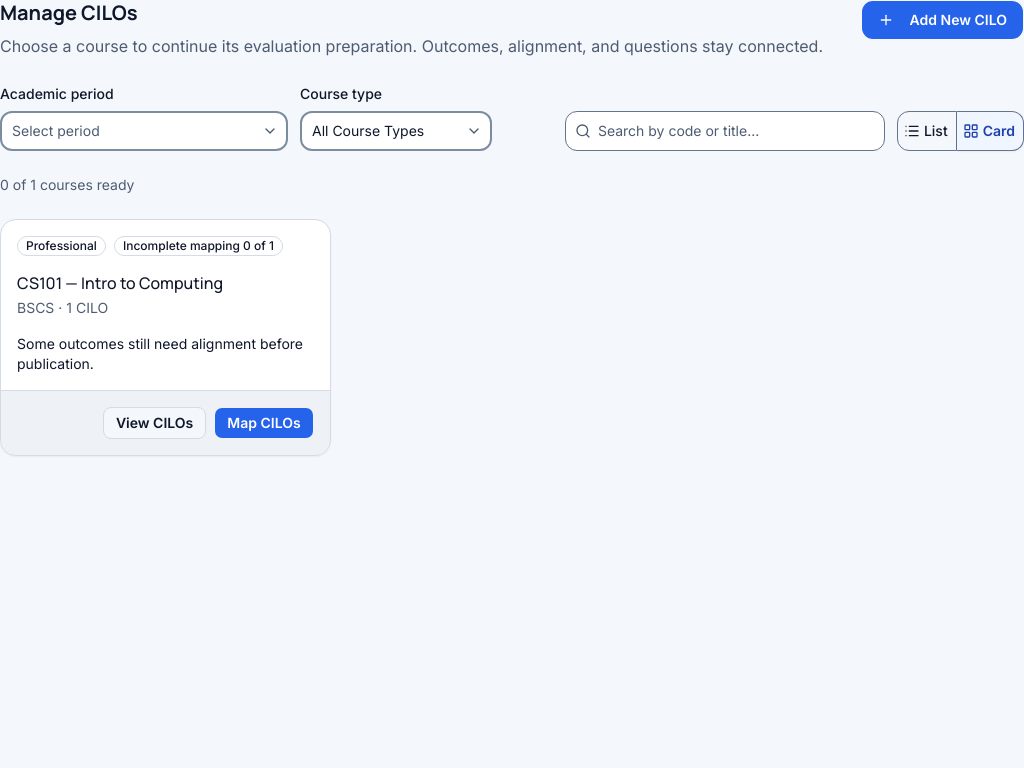
Test: FacultyCilosCourseList › warns when the save succeeds but the list cannot be refreshed
The image size is (1024, 768).
Click the button with aria-label "View CILOs for CS101": (155, 423) [103,407,206,439]
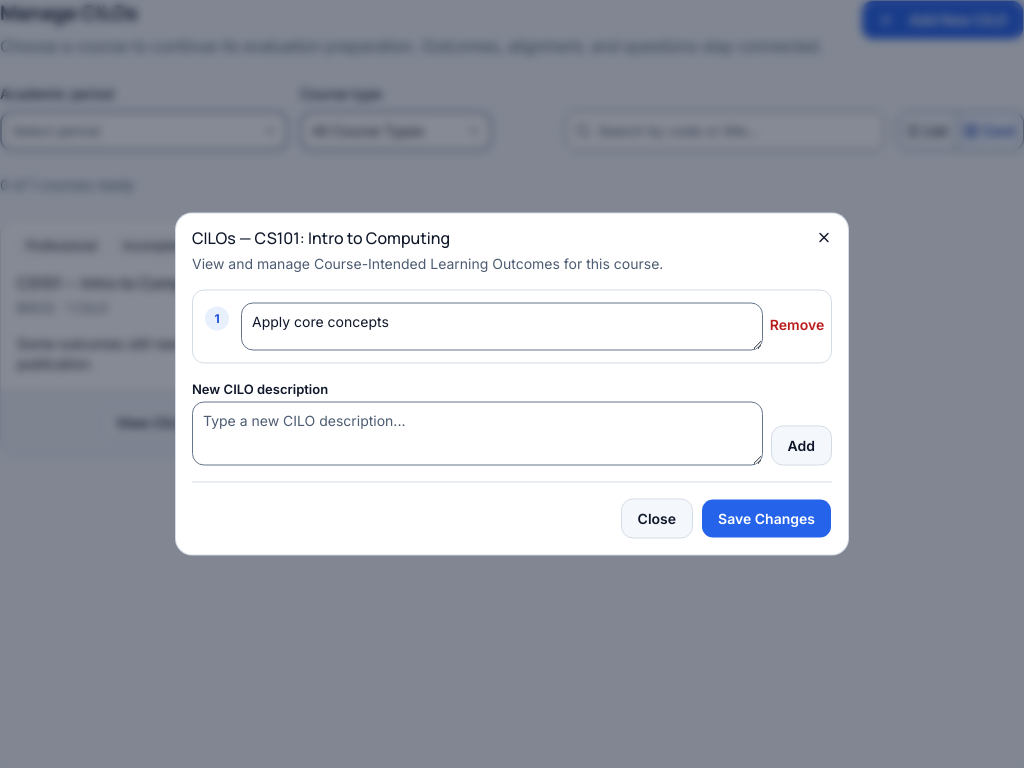
Check: the dialog is shown, box [176,214,848,554]
Check: the text box showing "Apply core concepts" is shown, box [241,302,763,350]
Click the button "Save Changes": (767, 518) [701,498,832,538]
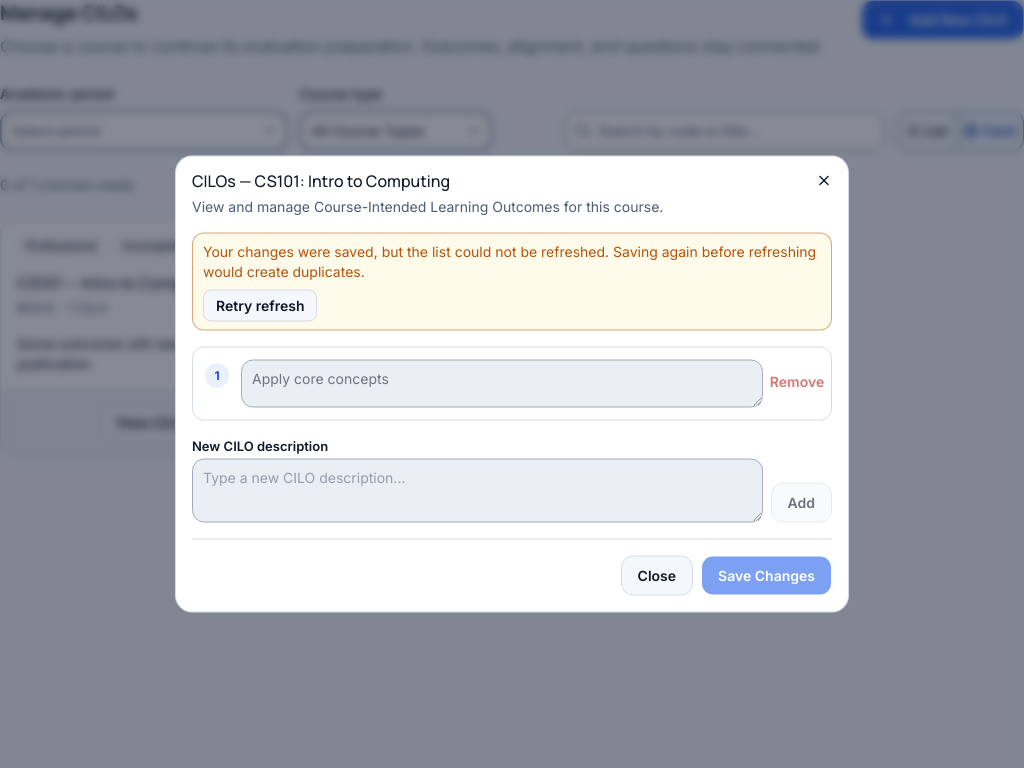
Check: the text "could not be refreshed. Saving again before" is shown, box [203,242,816,280]
